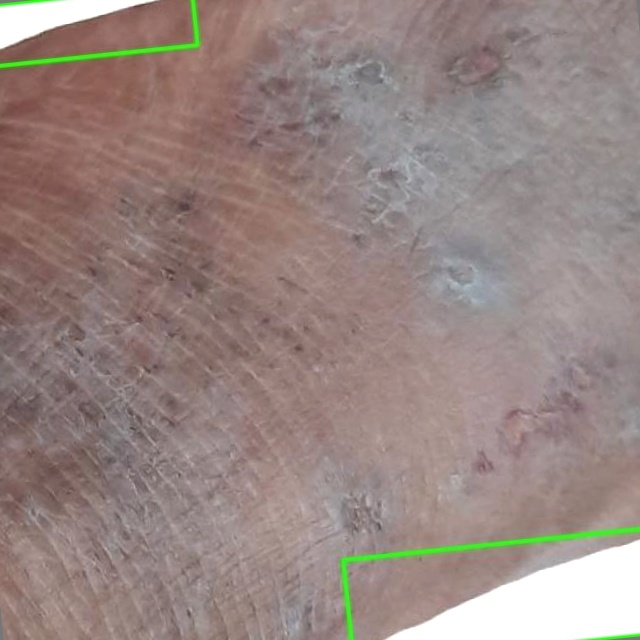Contact Dermatitis: (343, 529, 639, 639), (0, 0, 197, 65)
